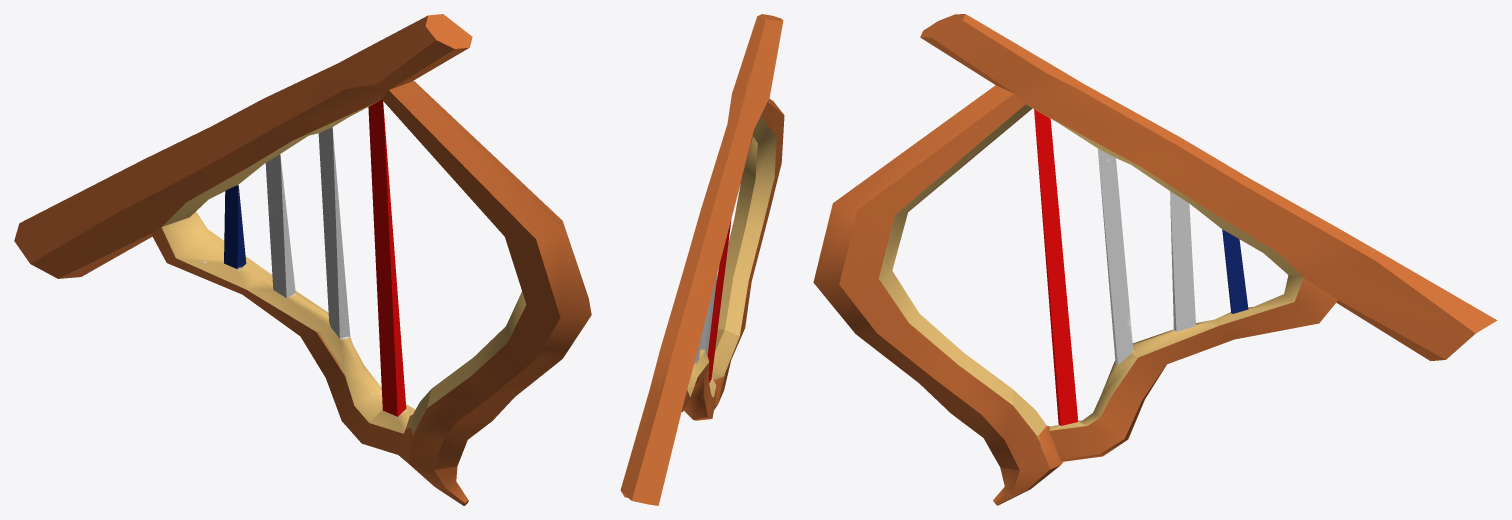
File: Arpa3_000011.obj
3 renders of one model, left to right at view 1: azimuth 30°, elevation 25°; view 2: azimuth 150°, elevation 25°; view 3: azimuth 270°, elevation 25°, orthographic. The views are drawn at different scales.
Visible parts, largest first — view 1: a3_Arpa_1:pCube6; view 2: a3_Arpa_1:pCube6; view 3: a3_Arpa_1:pCube6.
Boxes of the visible parts, bbox=[...] form: a3_Arpa_1:pCube6: bbox=[14, 14, 591, 505]; a3_Arpa_1:pCube6: bbox=[620, 14, 784, 505]; a3_Arpa_1:pCube6: bbox=[813, 14, 1497, 505].
Size of the model in its own units: 4.71 by 10.54 by 13.97.
